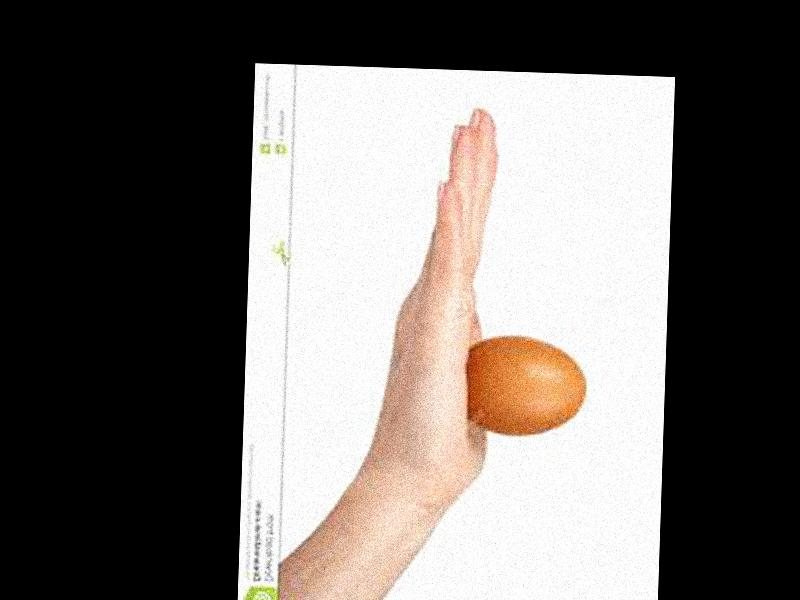Eggs: (461, 333, 587, 435)
